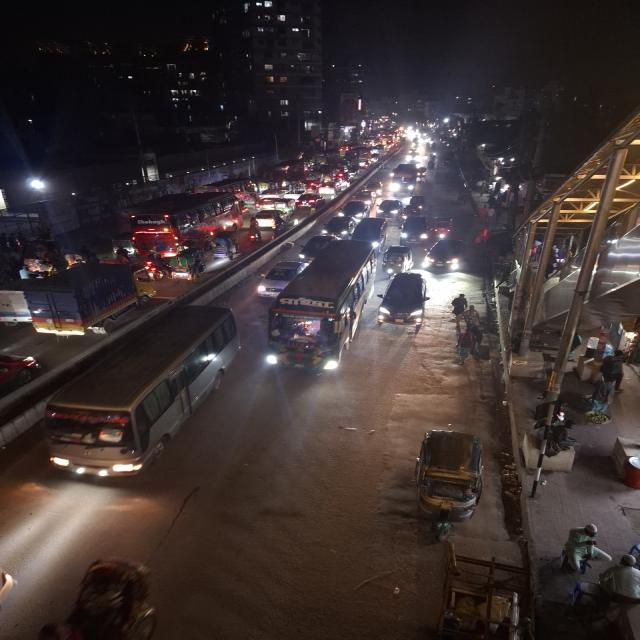bus: (34, 308, 233, 484), (266, 242, 374, 378), (122, 192, 240, 245), (389, 162, 418, 195)
car: (377, 270, 432, 335), (0, 348, 43, 404), (253, 259, 300, 299), (422, 236, 468, 275), (296, 233, 338, 263), (350, 216, 388, 248), (251, 209, 291, 231), (400, 215, 430, 244), (318, 215, 354, 238), (374, 196, 400, 219), (338, 200, 370, 218), (294, 193, 324, 212), (362, 180, 385, 198)
cng: (411, 426, 488, 545), (383, 244, 412, 277), (432, 214, 454, 240), (405, 193, 428, 214)
motorcycle: (142, 251, 168, 281), (246, 227, 264, 245)
pedestrian: (600, 543, 640, 640), (555, 523, 603, 579), (453, 327, 478, 367), (450, 292, 472, 319)
rickshaw: (28, 550, 177, 640), (166, 249, 207, 285), (212, 236, 238, 263)
truck: (27, 261, 139, 340), (389, 163, 418, 195)
